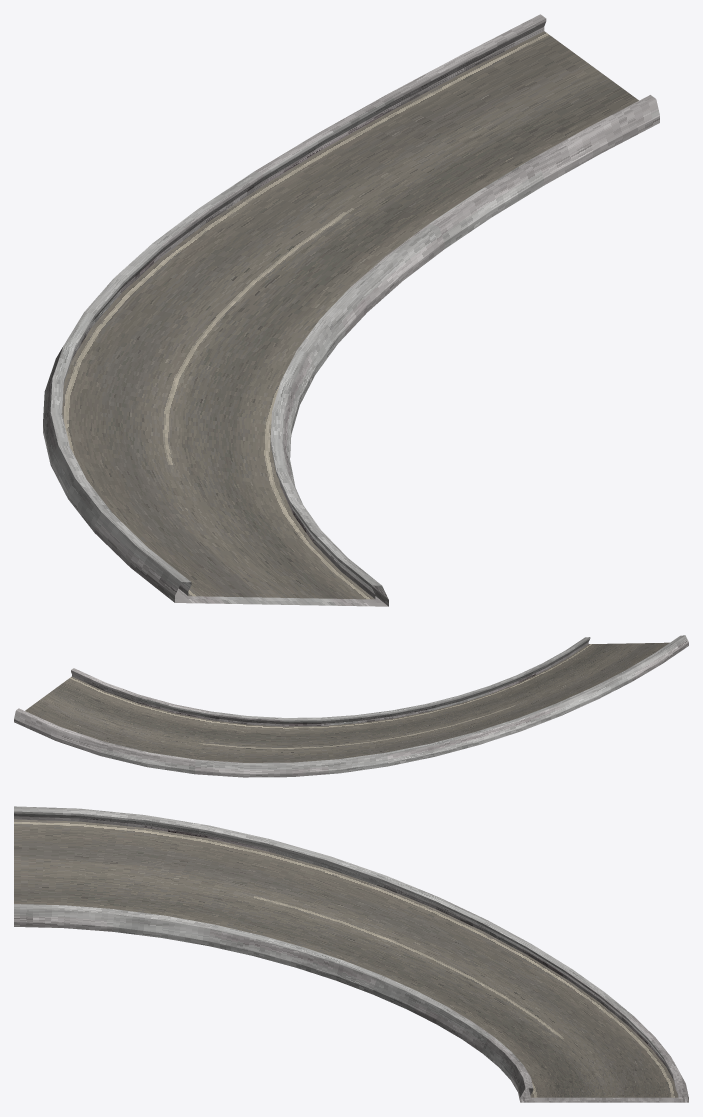
Rendered from road-Turn-HalfBankedRight-BiSlopeUp-Up1-Right-Size4.glb.
3 views of the same model, one above another, from view 1: azimuth 30°, elevation 25°; view 2: azimuth 150°, elevation 25°; view 3: azimuth 270°, elevation 25° (orthographic). The views are drawn at different scales.
Parts seen in each view (by area): view 1: road-Turn-HalfBankedRight-BiSlopeUp-Up1-Right-Size4; view 2: road-Turn-HalfBankedRight-BiSlopeUp-Up1-Right-Size4; view 3: road-Turn-HalfBankedRight-BiSlopeUp-Up1-Right-Size4.
Boxes of the visible parts, x1=… form: road-Turn-HalfBankedRight-BiSlopeUp-Up1-Right-Size4: x1=43, y1=14, x2=659, y2=606; road-Turn-HalfBankedRight-BiSlopeUp-Up1-Right-Size4: x1=14, y1=635, x2=688, y2=777; road-Turn-HalfBankedRight-BiSlopeUp-Up1-Right-Size4: x1=14, y1=806, x2=688, y2=1102.
Size of the model in its own units: 4 by 0.3758 by 4.
Materials: 2 (2 with a texture image).
